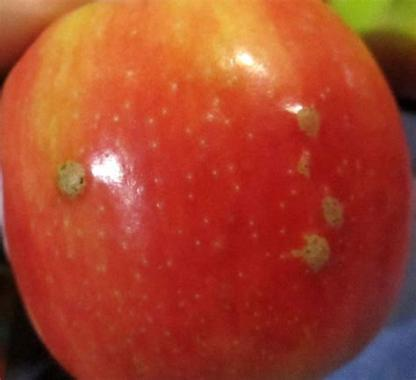defect: (265, 88, 361, 288), (41, 152, 100, 217)
